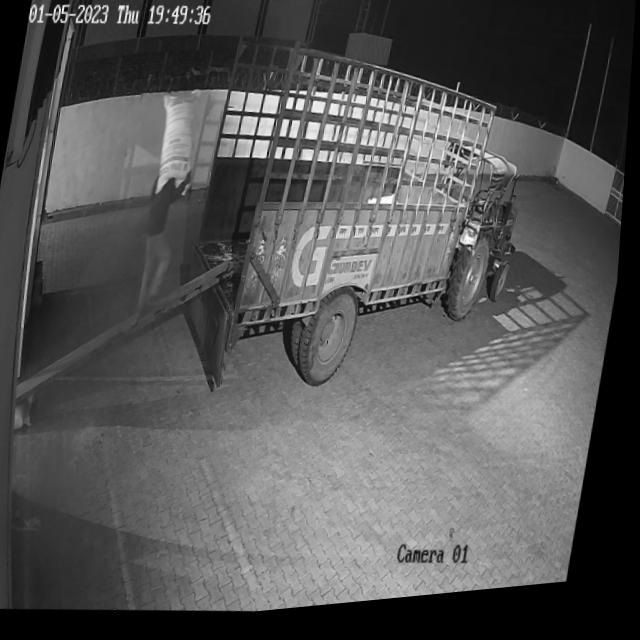sack: (149, 89, 204, 202)
